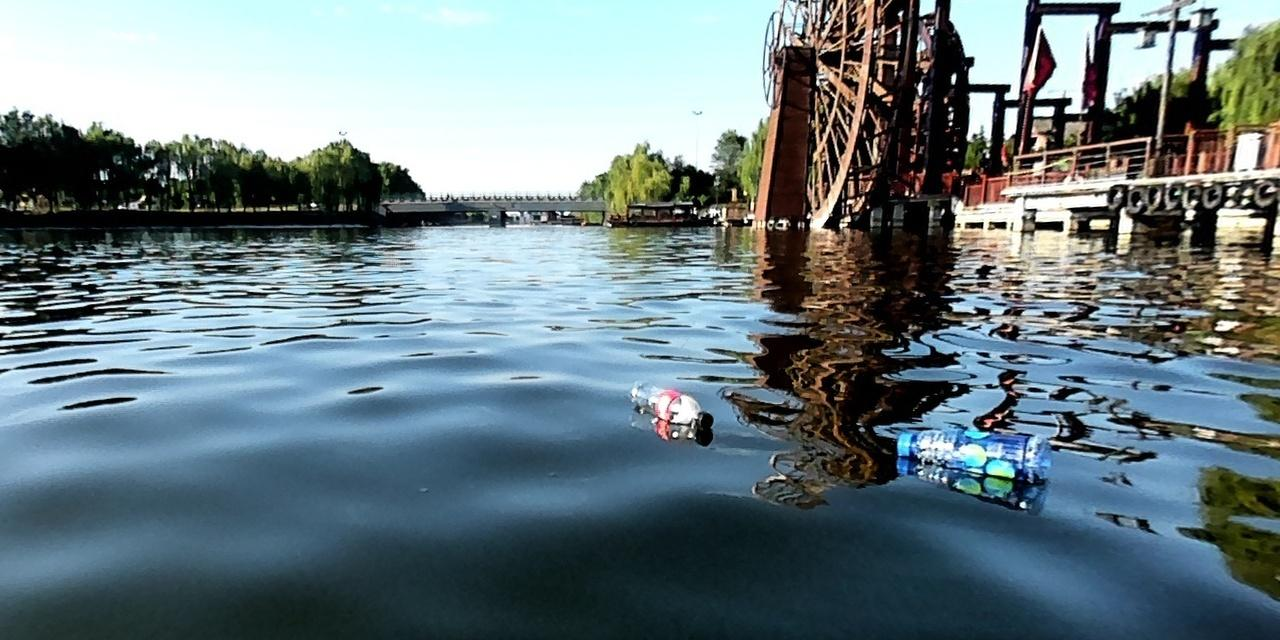bottle: (895, 419, 1057, 484), (623, 372, 715, 436)
